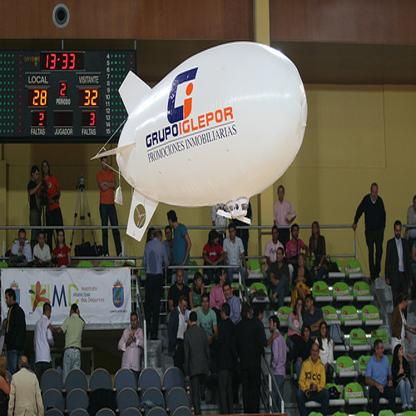Airship: (101, 40, 318, 241)
